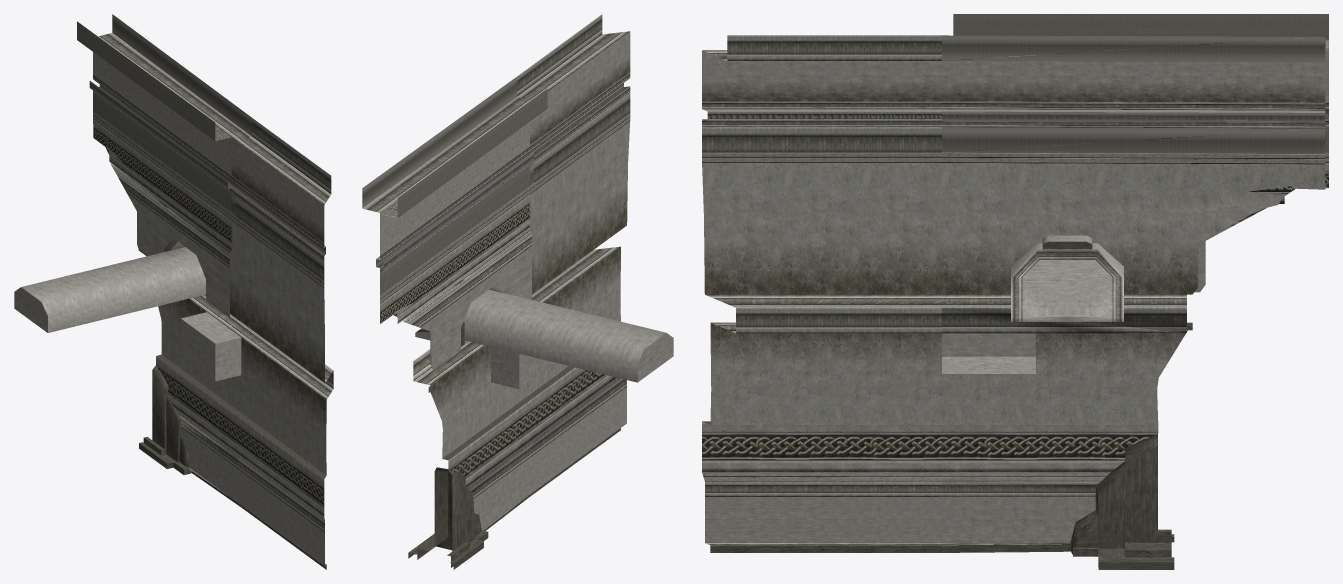
Rendered from DWARF_PALACE_ARKENSTONE_ROOM_DWALLA.fbx.
3 views of the same model, side by side, from view 1: azimuth 30°, elevation 25°; view 2: azimuth 150°, elevation 25°; view 3: azimuth 270°, elevation 25° (orthographic). The views are drawn at different scales.
Visible parts, largest first — view 1: DWARF_PALACE_ARKENSTONE_ROOM_DWALLA; view 2: DWARF_PALACE_ARKENSTONE_ROOM_DWALLA; view 3: DWARF_PALACE_ARKENSTONE_ROOM_DWALLA.
Boxes of the visible parts, bbox=[...] form: DWARF_PALACE_ARKENSTONE_ROOM_DWALLA: bbox=[14, 14, 333, 569]; DWARF_PALACE_ARKENSTONE_ROOM_DWALLA: bbox=[362, 14, 673, 569]; DWARF_PALACE_ARKENSTONE_ROOM_DWALLA: bbox=[702, 14, 1328, 569].
Size of the model in its own units: 111689 by 205000 by 222002.
9 materials, 9 textured.
